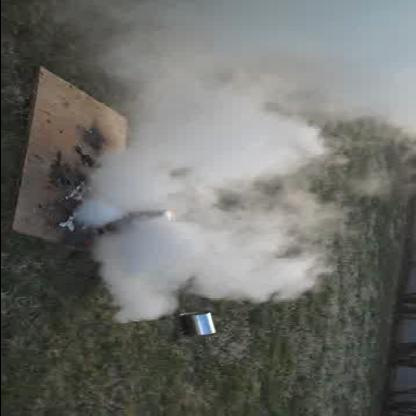Smoke: (80, 0, 410, 304)
